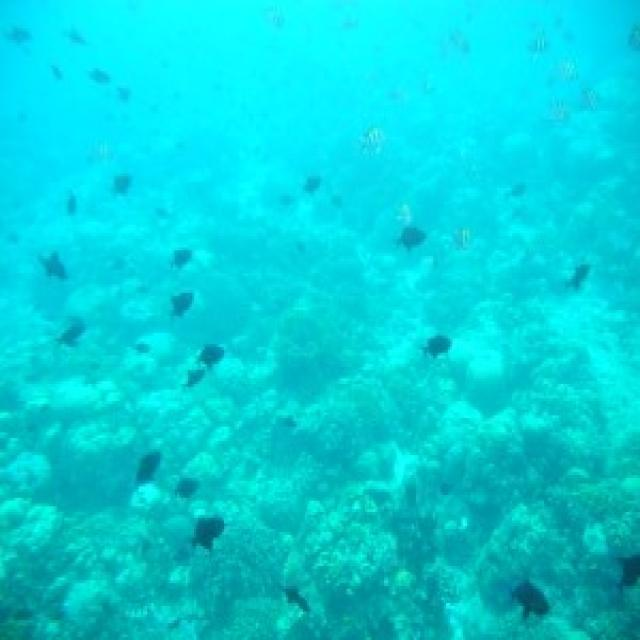Bleached: (547, 295, 640, 431), (37, 370, 118, 405), (444, 409, 559, 433), (454, 330, 506, 381), (6, 507, 58, 550), (7, 464, 57, 490), (128, 472, 165, 507), (140, 333, 165, 375)
Healthy: (235, 407, 377, 640), (498, 481, 640, 640)
